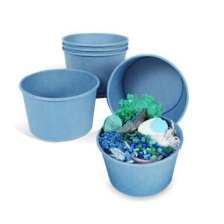paper_cup: (91, 106, 187, 201), (101, 48, 193, 134), (14, 63, 102, 146), (57, 27, 133, 102)
